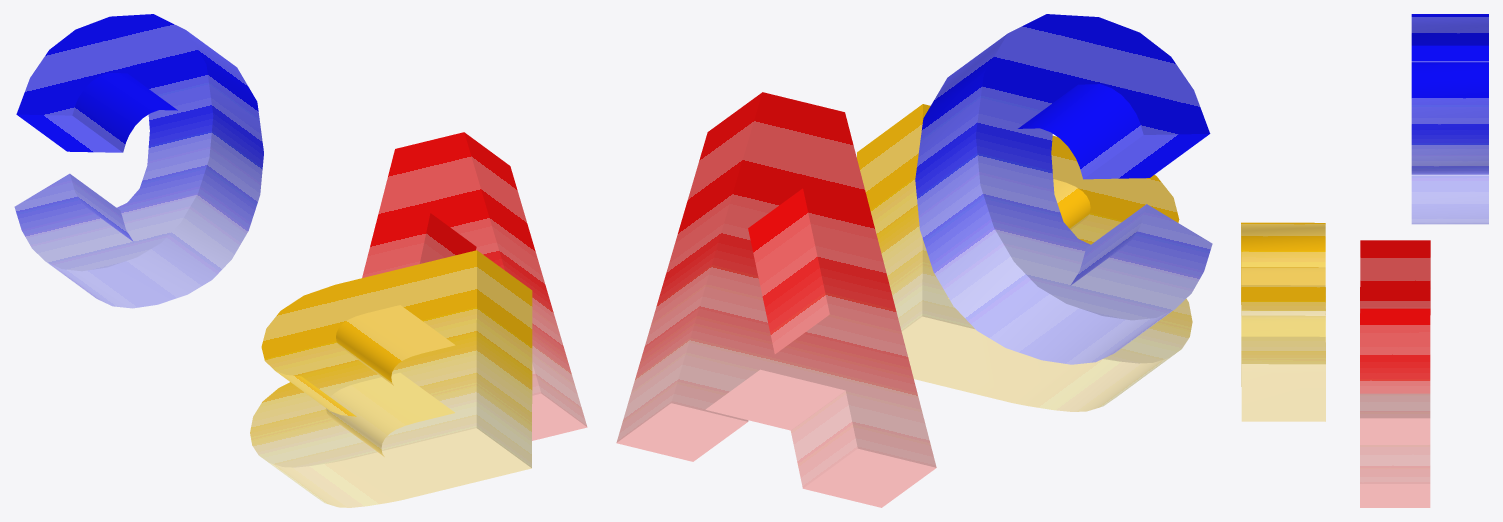
The model's file is ps2_save-icons_simple2000seriesvol76thehanasoueigonotabi.glb.
The picture shows the model from 3 angles, left to right: view 1: azimuth 30°, elevation 25°; view 2: azimuth 150°, elevation 25°; view 3: azimuth 270°, elevation 25°; orthographic projection. The views are drawn at different scales.
Parts seen in each view (by area): view 1: ICON.ICO; view 2: ICON.ICO; view 3: ICON.ICO.
Part boxes in pixels (box(x1,y1,x2,y2)): ICON.ICO: box(14, 14, 587, 507); ICON.ICO: box(616, 14, 1212, 507); ICON.ICO: box(1241, 14, 1488, 507).
Size of the model in its own units: 4 by 3.48 by 2.31.
1 material, 1 textured.
